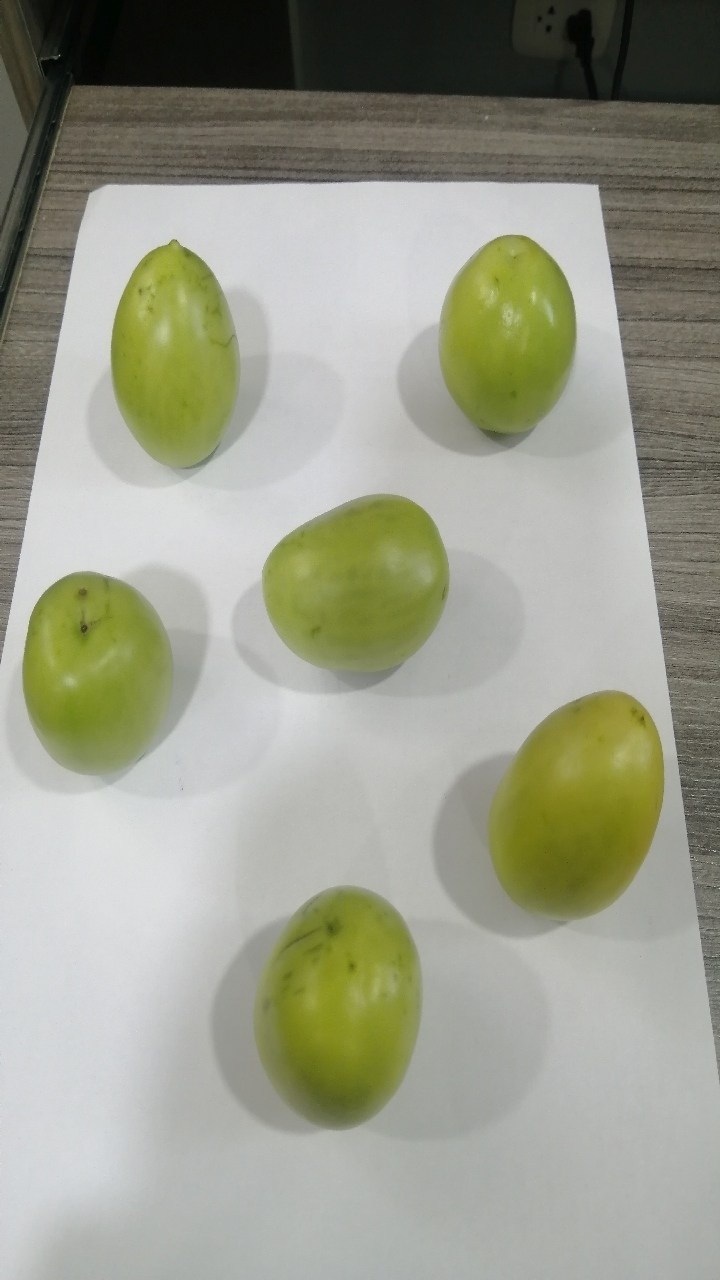tomateVerde: (474, 665, 683, 939), (232, 866, 437, 1140), (240, 469, 463, 680), (88, 219, 258, 491), (426, 206, 611, 452), (3, 546, 180, 791)
